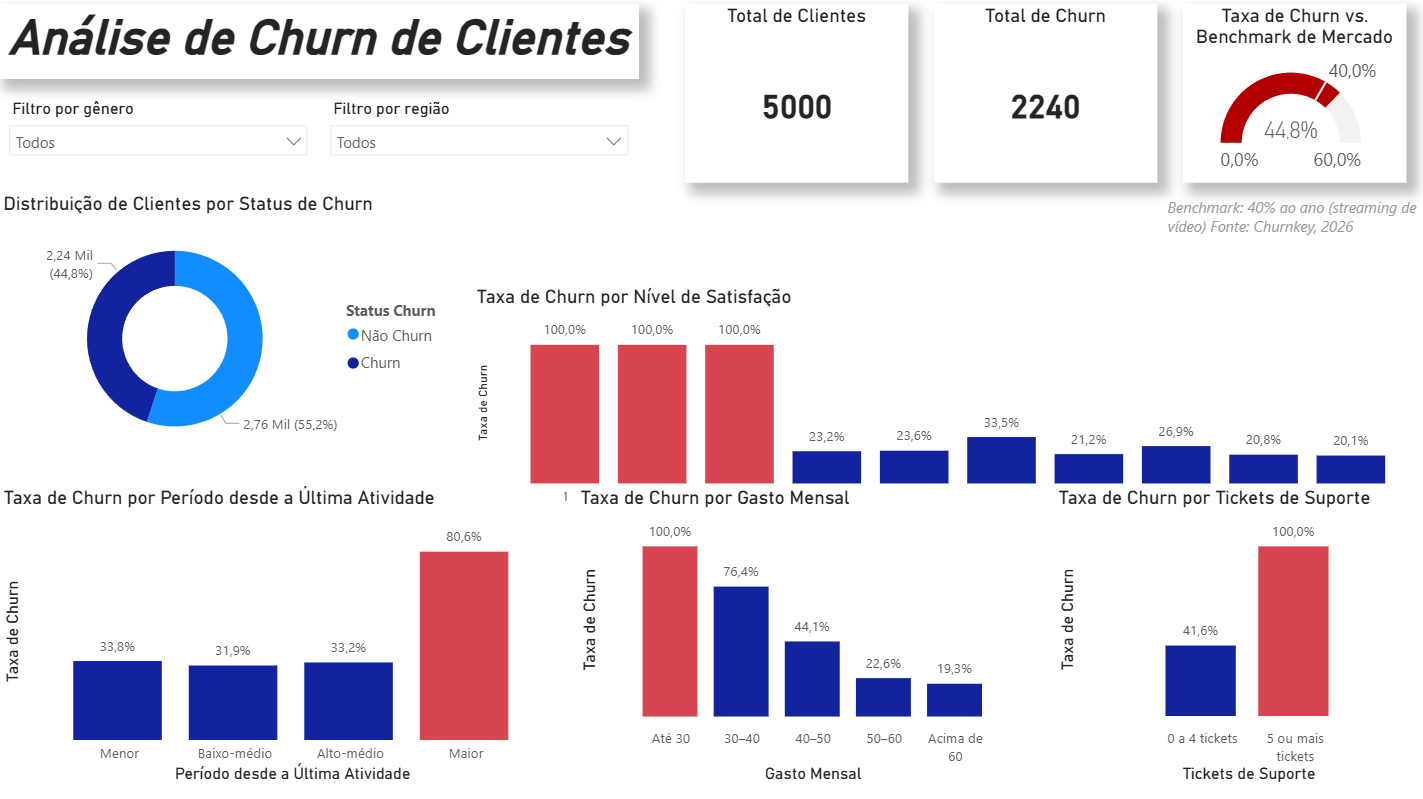

The page's visual inventory and layout, read from the dashboard file:
{"tool":"powerbi","page":{"name":"Página 1","canvas":[1280,720],"ordinal":0},"visuals":[{"type":"card","title":"Total de Clientes","fields":{"Values":["churn_tratado.Total de Clientes"]},"box":[615.2,8.1,199.7,160.3],"z":0},{"type":"card","title":"Total de Churn","fields":{"Values":["churn_tratado.Clientes Churned"]},"box":[838.2,8.1,199.7,160.3],"z":1000},{"type":"donutChart","title":"Distribuição de Clientes por Status de Churn","fields":{"Y":["CountNonNull(churn_tratado.Customer_ID)"],"Category":["churn_tratado.Status Churn"]},"box":[0,176.4,413.7,243.6],"z":2000},{"type":"clusteredColumnChart","title":"Taxa de Churn por Nível de Satisfação","fields":{"Category":["churn_tratado.Satisfaction_Score"],"Y":["churn_tratado.Taxa de Churn"]},"box":[423.6,259.7,856.1,216.7],"z":3000},{"type":"clusteredColumnChart","title":"Taxa de Churn por Período desde a Última Atividade","fields":{"Y":["churn_tratado.Taxa de Churn"],"Category":["churn_tratado.Faixa_Last_Activity"]},"box":[0,439.7,506.9,270.4],"z":4000},{"type":"textbox","box":[0,8.1,574,67.2],"z":5000},{"type":"gauge","title":"Taxa de Churn vs. Benchmark de Mercado","fields":{"Y":["churn_tratado.Taxa de Churn"],"TargetValue":["churn_tratado.Media_Mercado_Streaming"]},"box":[1061.2,8.1,199.7,160.3],"z":6000},{"type":"textbox","box":[1042.4,176.4,237.3,46.6],"z":7000},{"type":"clusteredColumnChart","title":"Taxa de Churn por Gasto Mensal","fields":{"Y":["churn_tratado.Taxa de Churn"],"Category":["churn_tratado.Faixa_Gasto"]},"box":[516.7,439.7,396.7,270.4],"z":8000},{"type":"clusteredColumnChart","title":"Taxa de Churn por Tickets de Suporte","fields":{"Category":["churn_tratado.Faixa_Tickets"],"Y":["churn_tratado.Taxa de Churn"]},"box":[944.8,439.7,330,270],"z":9000},{"type":"slicer","fields":{"Values":["churn_tratado.Region"]},"box":[287.5,88.7,286.6,65.4],"z":10000},{"type":"slicer","fields":{"Values":["churn_tratado.Gender"]},"box":[0,88.7,287.5,65.4],"z":10001}]}

Visuals, with their boxes in screenshot pixels (x1, y1, x2, y2), scaled from the page's 1280x720 canvas onto the 1423x799 screenshot:
"Total de Clientes" card: (684, 9, 906, 187)
"Total de Churn" card: (932, 9, 1154, 187)
"Distribuição de Clientes por Status de Churn" donutChart: (0, 196, 460, 466)
"Taxa de Churn por Nível de Satisfação" clusteredColumnChart: (471, 288, 1422, 529)
"Taxa de Churn por Período desde a Última Atividade" clusteredColumnChart: (0, 488, 564, 788)
textbox: (0, 9, 638, 84)
"Taxa de Churn vs. Benchmark de Mercado" gauge: (1180, 9, 1402, 187)
textbox: (1159, 196, 1422, 247)
"Taxa de Churn por Gasto Mensal" clusteredColumnChart: (574, 488, 1015, 788)
"Taxa de Churn por Tickets de Suporte" clusteredColumnChart: (1050, 488, 1417, 788)
slicer - churn_tratado.Region: (320, 98, 638, 171)
slicer - churn_tratado.Gender: (0, 98, 320, 171)
